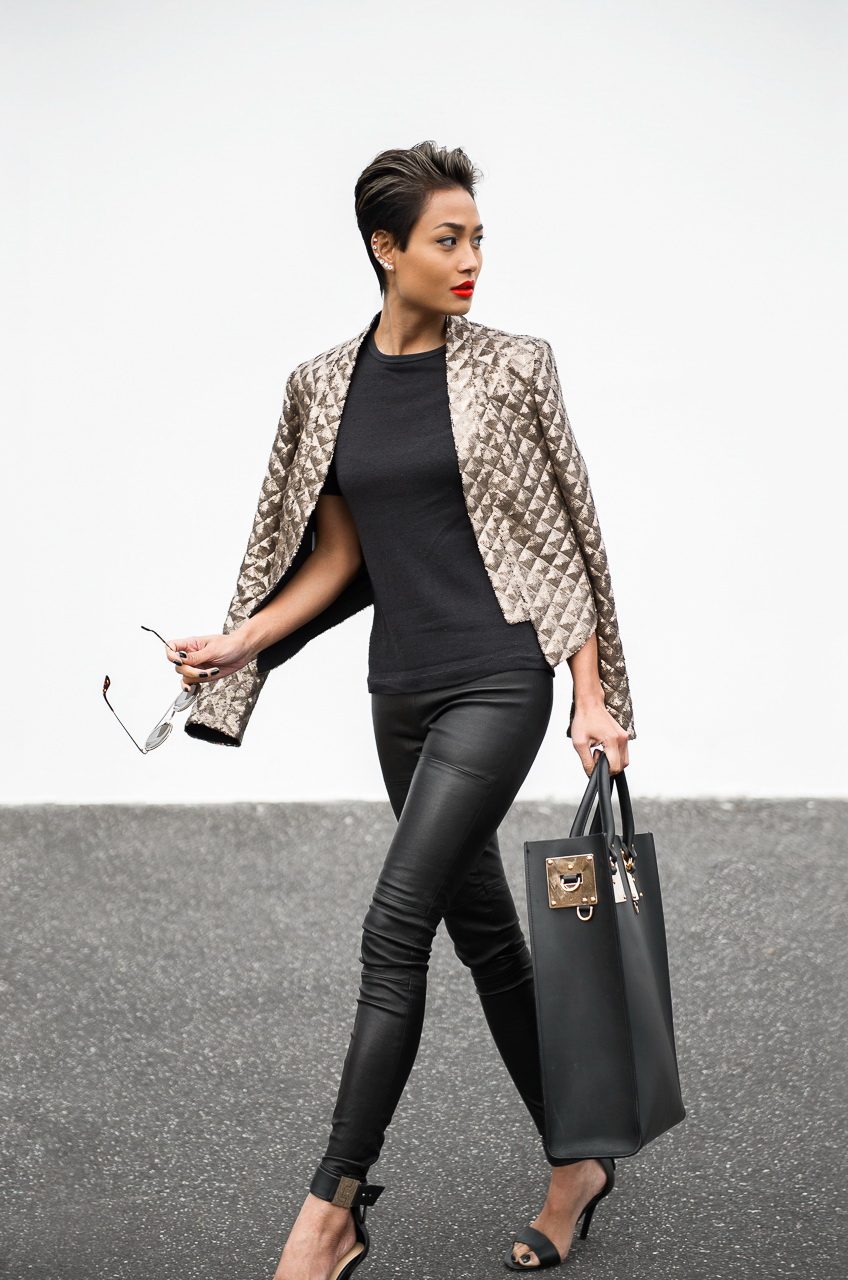F_W_suit jacket: (168, 350, 646, 683)
